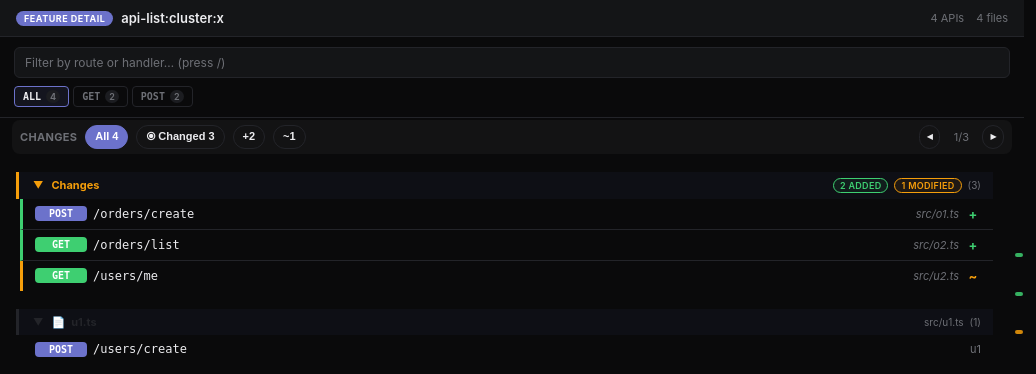
Test: composes with search (Changed AND text) › shows only rows that are BOTH changed AND match the search text
In the field with placeholder "Filter by route or handler… (press /)": [512, 62] box [14, 47, 1010, 78], type "users"
Wait 250 ms
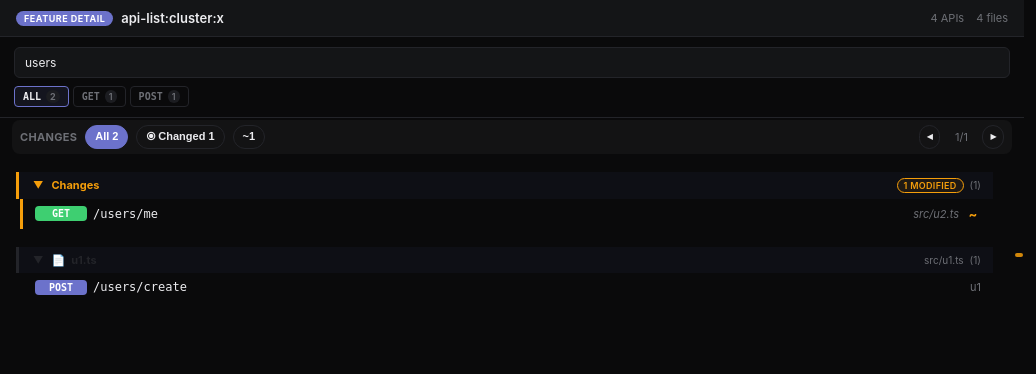
Now the button "⦿ Changed 1" is shown
Click the button "⦿ Changed 1": [180, 137] box [136, 125, 224, 149]
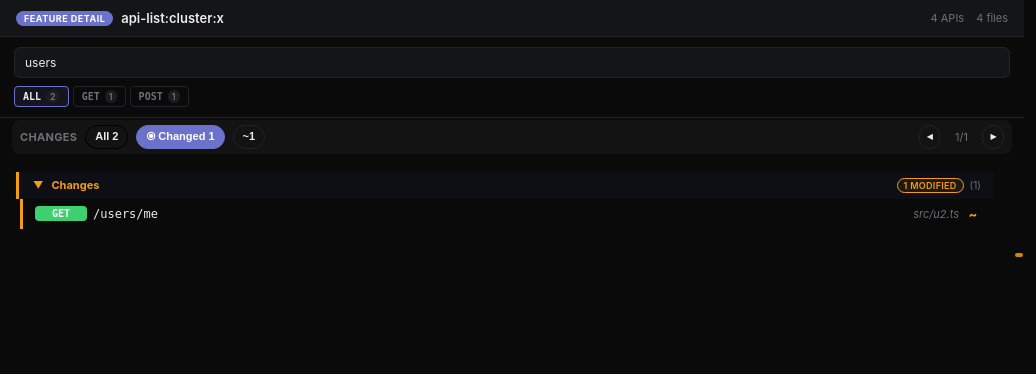
Expected: the text "/users/me" is shown, [93, 207, 158, 221]
Now the button "/users/create" is gone
